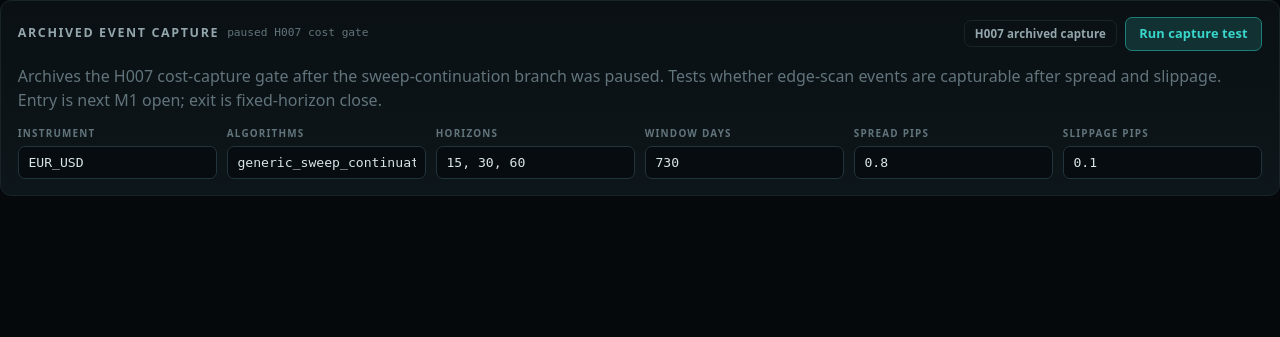
it: submits the H007 capture preset and renders net capture rows
Click the button "Run capture test". click: x=1193, y=34
box: [1124,17,1262,51]
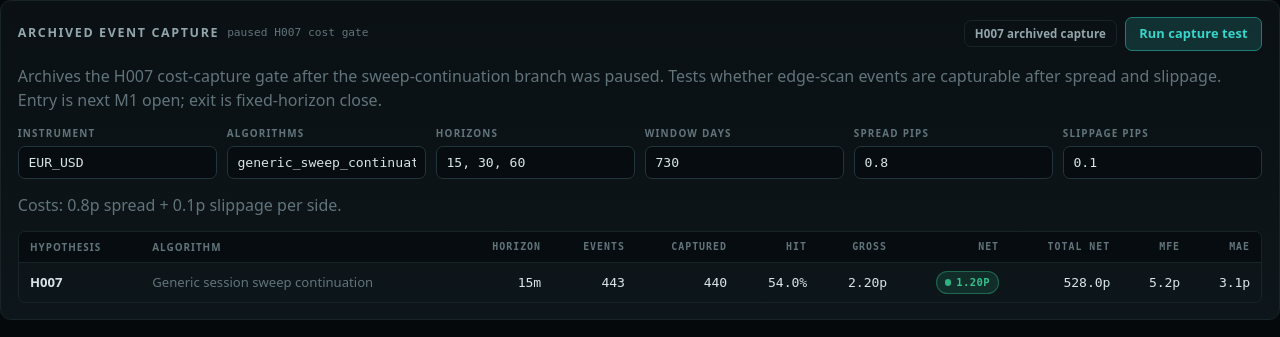
Check: the text "Generic session sweep continuation" is shown, box [141,263,459,302]
Check: the text "1.20p" is shown, box [936,271,999,294]
Check: the text "Costs: 0.8p spread + 0.1p slippage per side." is shown, box [18,194,342,216]
